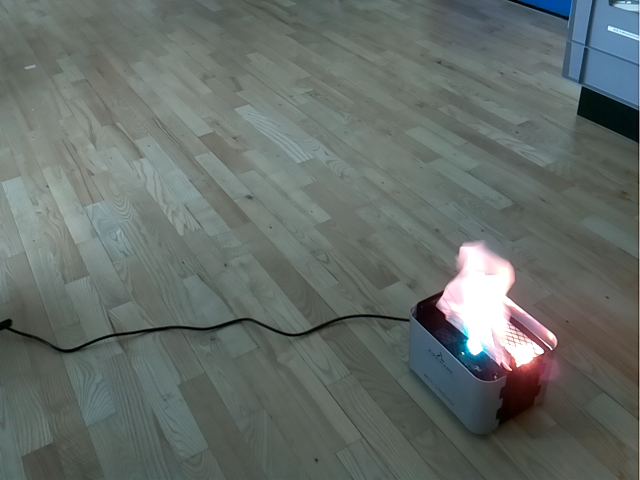fire: (435, 239, 515, 371)
